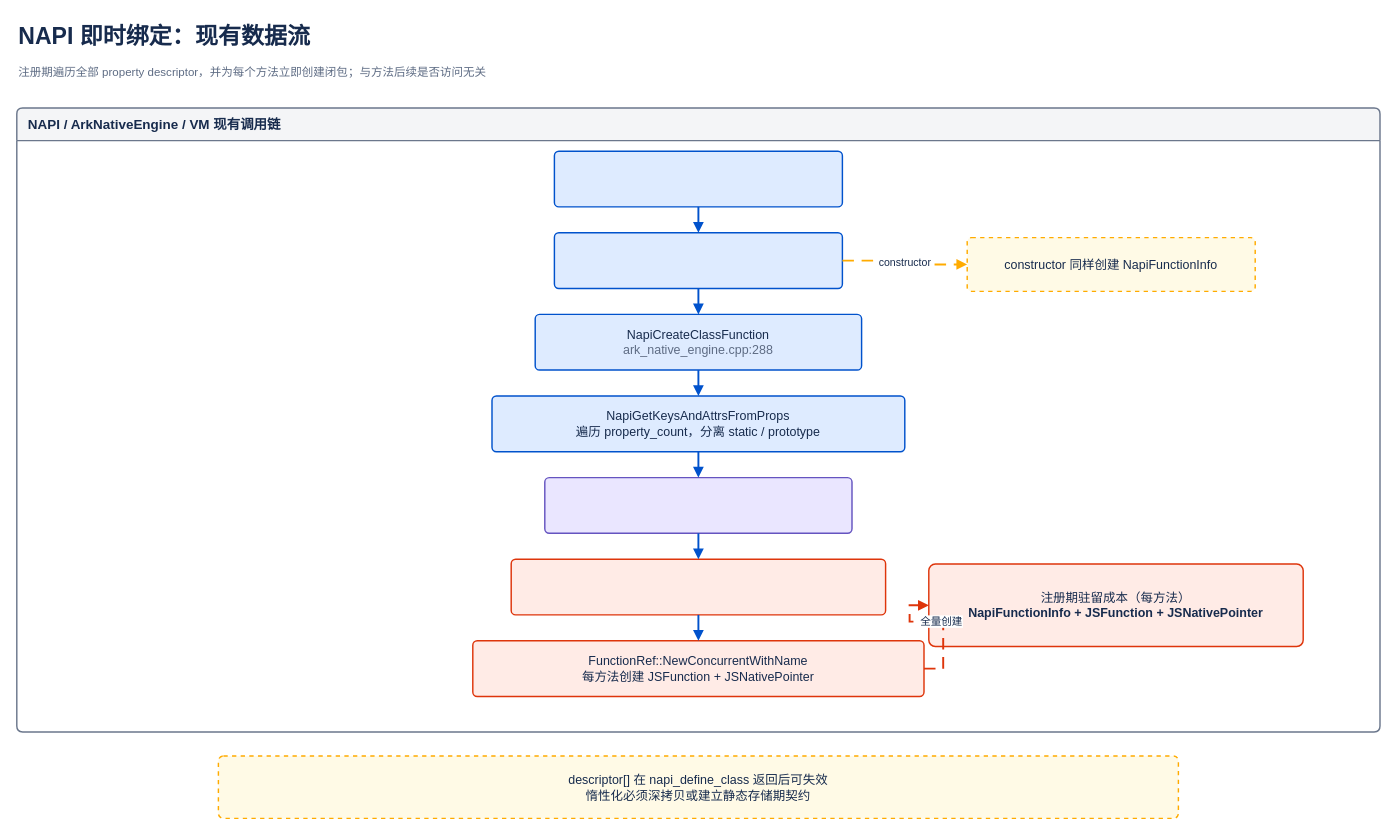
Image size: 1398x835. Some labels were removed from this diagram. Each missing label, with the centre of its shape:
"napi_define_class native_api.cpp:1643" belongs at point 698,178.
"NapiDefineClass ark_native_engine.cpp:333" belongs at point 698,260.
"NapiInitAttrValFromProp ark_native_engine.cpp:216" belongs at point 698,505.
"NapiNativeCreateFunction 每方法 new NapiFunctionInfo（堆外）" belongs at point 698,586.
